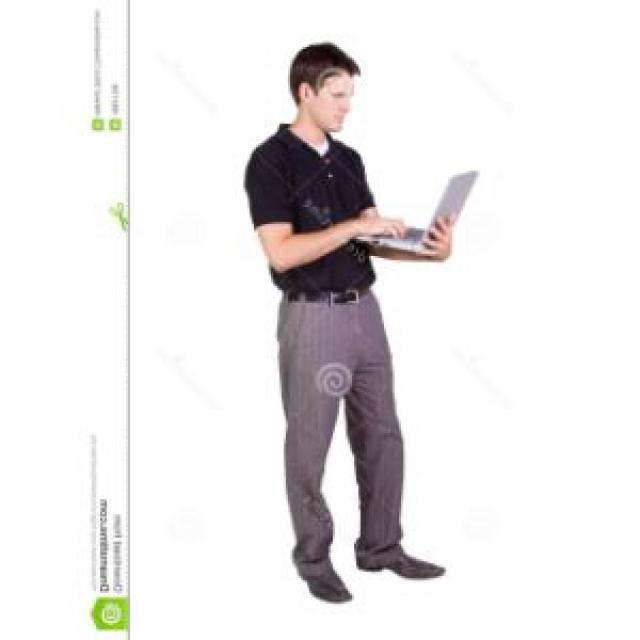adult: (245, 15, 431, 619)
